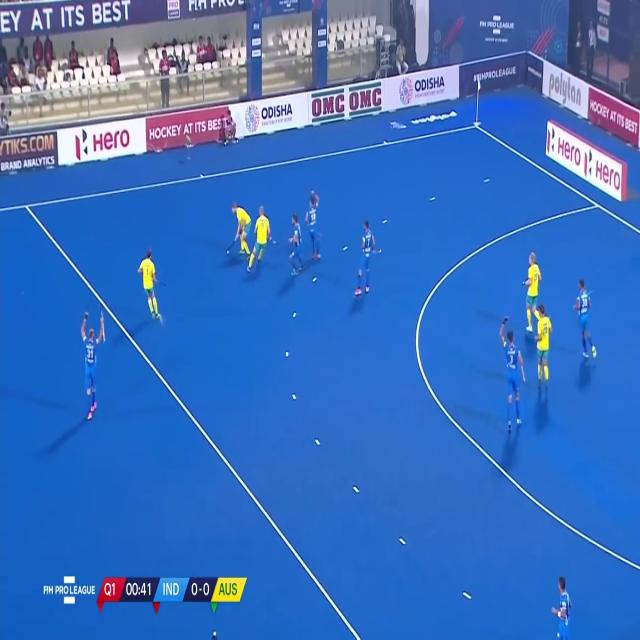ball: (224, 247, 231, 257)
